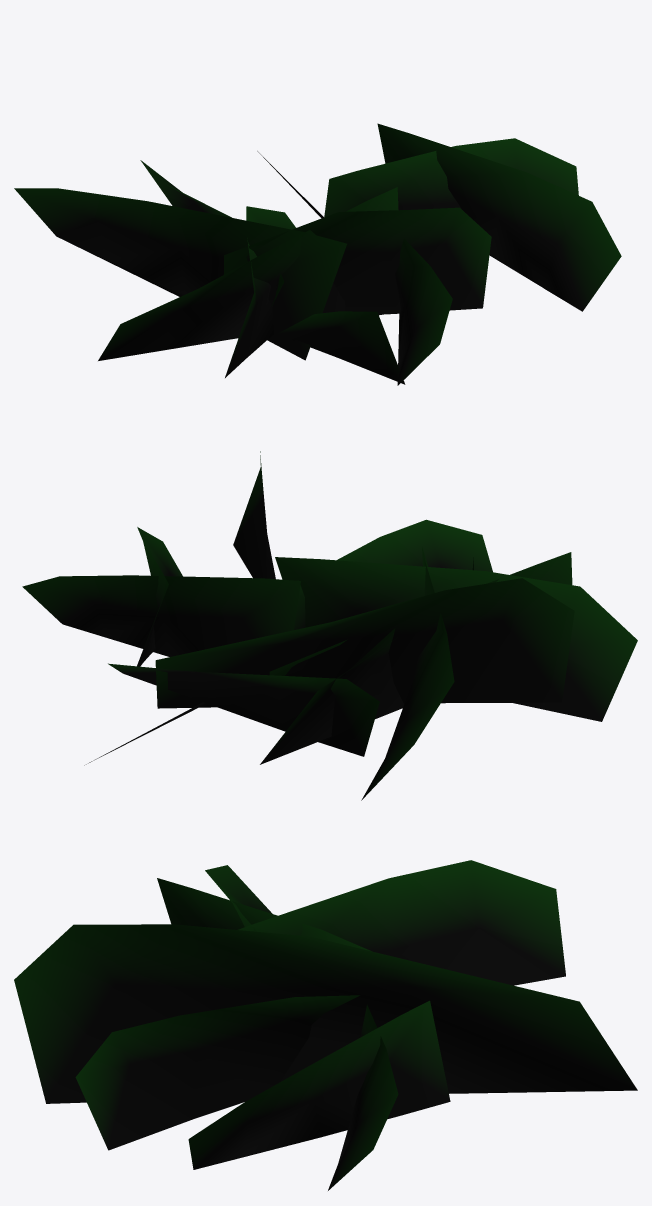
File: DryPlantsRHEP_C.fbx
3 views of the same model, one above another, from view 1: azimuth 30°, elevation 25°; view 2: azimuth 150°, elevation 25°; view 3: azimuth 270°, elevation 25° (orthographic). The views are drawn at different scales.
Parts seen in each view (by area): view 1: DPRHEPC_LOD0; view 2: DPRHEPC_LOD0; view 3: DPRHEPC_LOD0.
Part boxes in pixels (x1=…): DPRHEPC_LOD0: x1=14, y1=123, x2=621, y2=385; DPRHEPC_LOD0: x1=22, y1=451, x2=637, y2=800; DPRHEPC_LOD0: x1=14, y1=860, x2=637, y2=1190.
Size of what is drawn, in the model's own units: 2.99 by 1.22 by 3.03.
